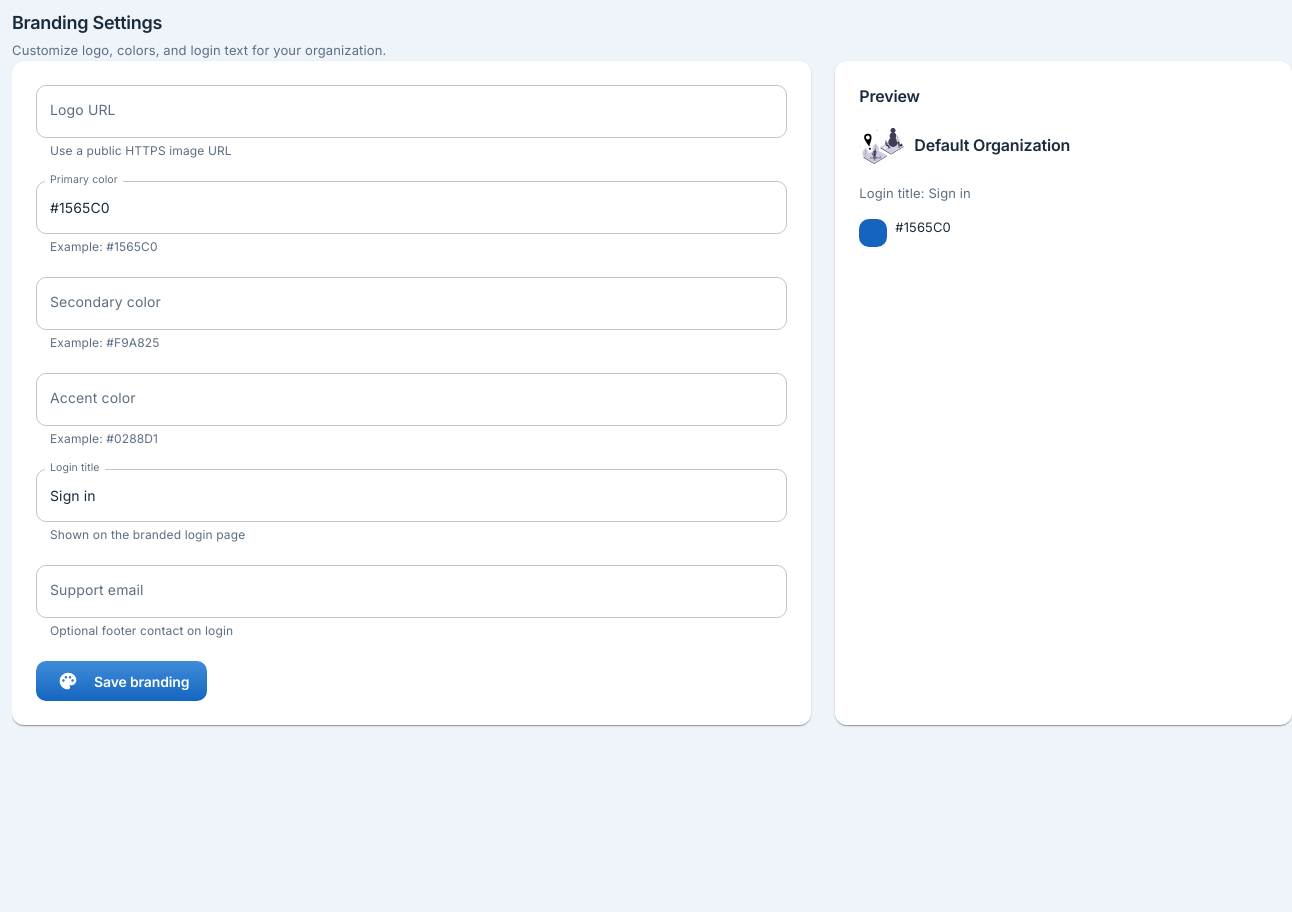
Scenario: BrandingSettingsPage › saves branding and refreshes context
expect the field showing "#1565C0" is shown: met, box [36, 181, 787, 234]
Replace the text in the field labelled "Login title" with "Welcome back" at (412, 496), box [36, 469, 787, 522]
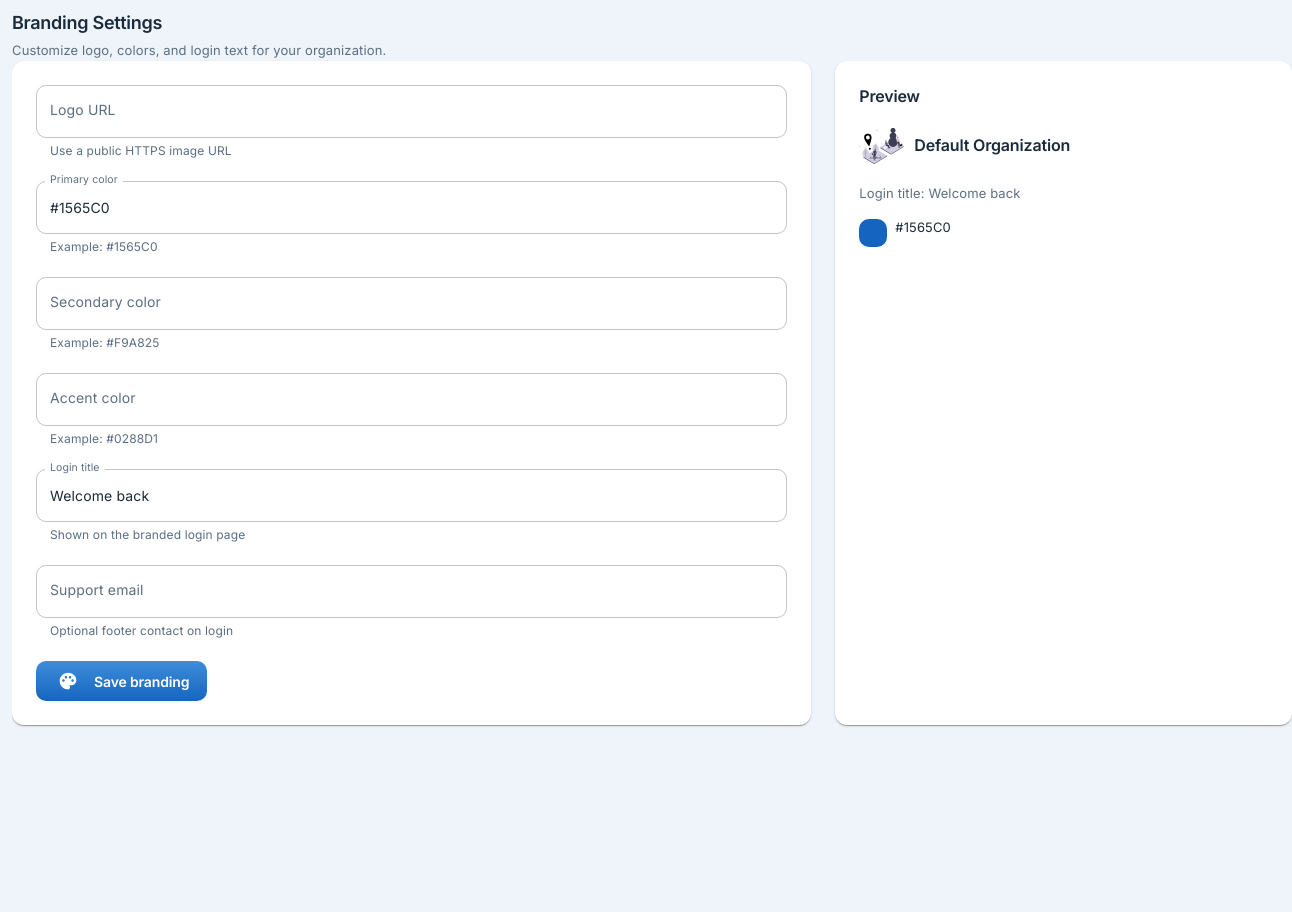
Click the button "Save branding" at (122, 681), box [36, 661, 207, 701]
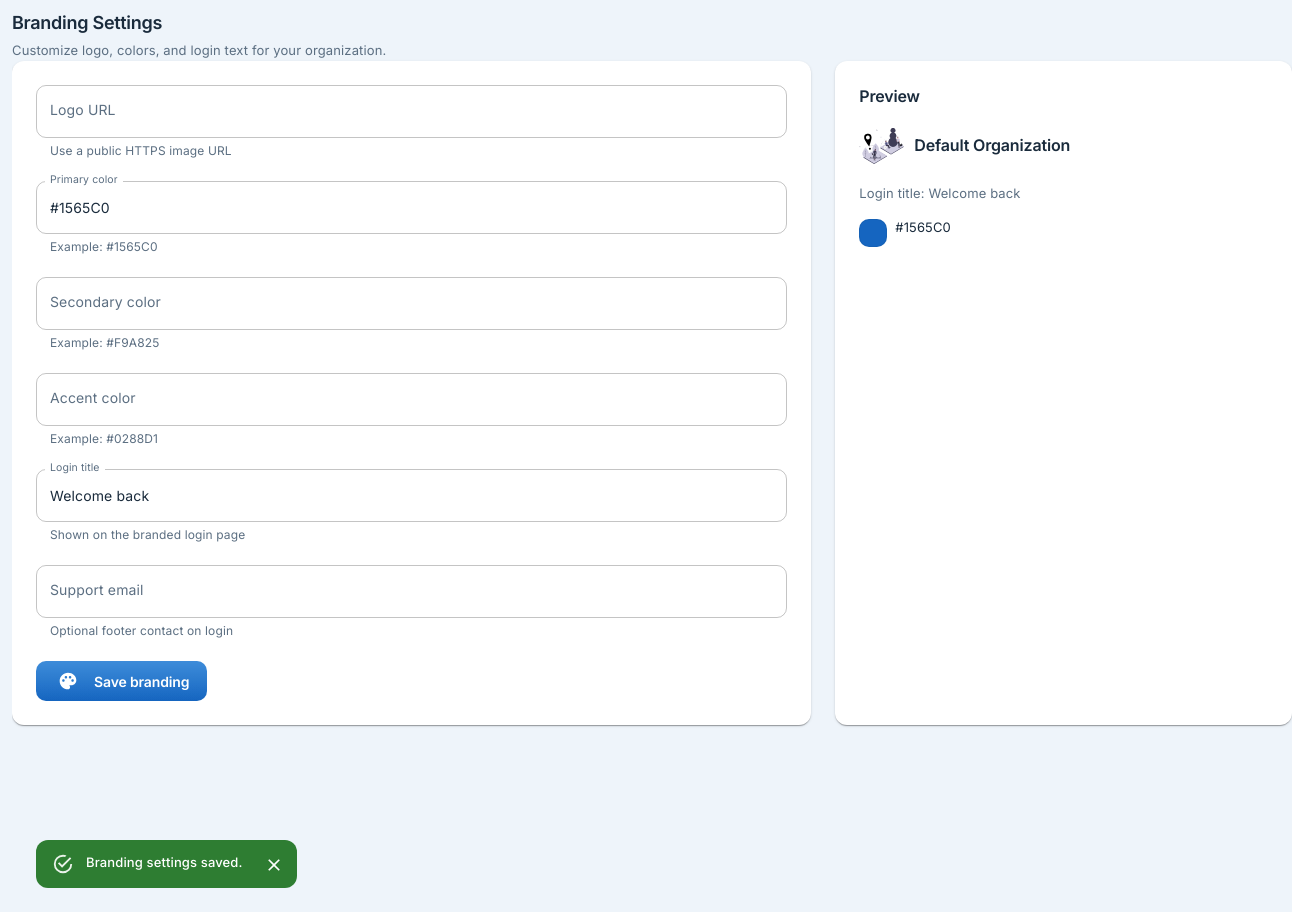
expect the text "Branding settings saved." is shown: met, box [86, 855, 243, 871]
